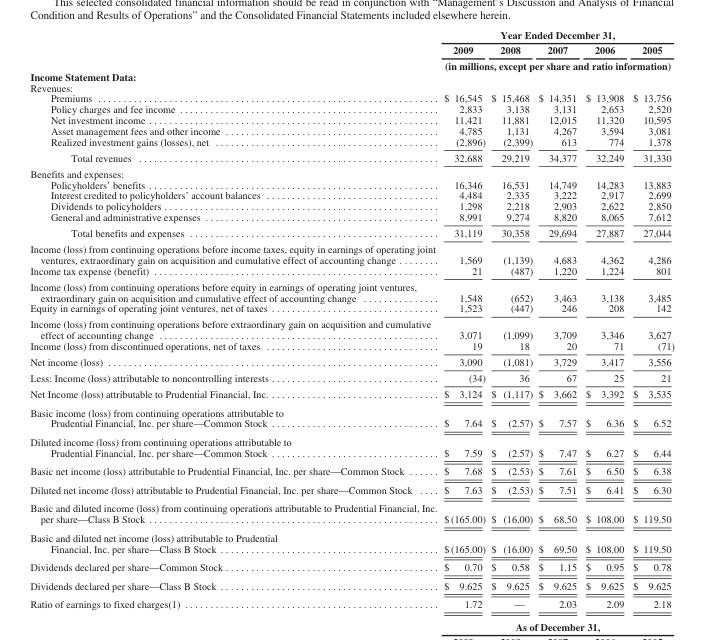table: (29, 28, 674, 609)
table column: (29, 28, 439, 609), (439, 28, 487, 609), (487, 28, 535, 609), (580, 28, 627, 609), (627, 28, 674, 609), (535, 28, 580, 609)
table column header: (29, 28, 674, 70)
table projected row header: (29, 402, 674, 417), (29, 527, 674, 542), (29, 432, 674, 446), (29, 165, 674, 178), (29, 70, 674, 81), (29, 81, 674, 92)
table row: (29, 498, 674, 527), (29, 315, 674, 340), (29, 240, 674, 264), (29, 278, 674, 302), (29, 461, 674, 480), (29, 575, 674, 594), (29, 480, 674, 498), (29, 557, 674, 575), (29, 385, 674, 402), (29, 149, 674, 165), (29, 224, 674, 240), (29, 353, 674, 369), (29, 369, 674, 385), (29, 42, 674, 57), (29, 402, 674, 417), (29, 417, 674, 432), (29, 446, 674, 461), (29, 527, 674, 542), (29, 542, 674, 557), (29, 594, 674, 609), (29, 28, 674, 42), (29, 135, 674, 149), (29, 264, 674, 278), (29, 432, 674, 446), (29, 57, 674, 70), (29, 165, 674, 178), (29, 211, 674, 224), (29, 302, 674, 315), (29, 340, 674, 353), (29, 70, 674, 81), (29, 81, 674, 92), (29, 92, 674, 103), (29, 103, 674, 114), (29, 114, 674, 125), (29, 178, 674, 189), (29, 189, 674, 200), (29, 200, 674, 211), (29, 125, 674, 135)
table spanning cell: (439, 28, 674, 42), (439, 57, 674, 70)
